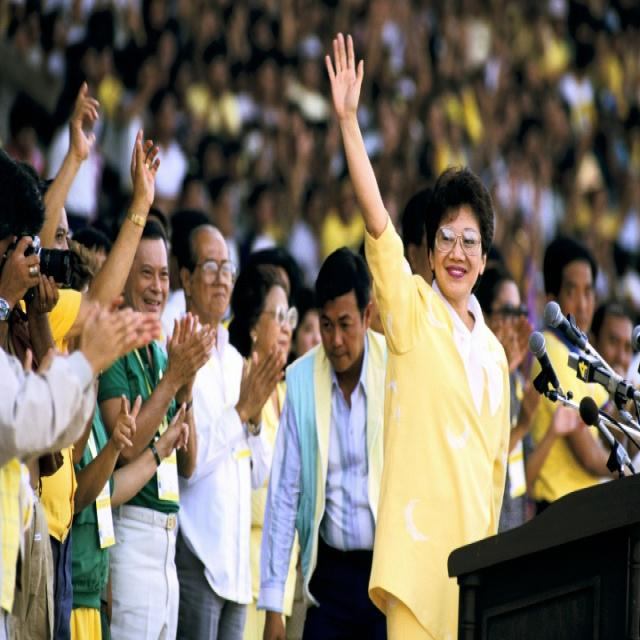body: (0, 0, 640, 289), (321, 26, 522, 638), (0, 117, 157, 639), (39, 124, 164, 640), (255, 246, 388, 640), (95, 214, 217, 640), (168, 217, 284, 640), (374, 184, 480, 640), (94, 220, 192, 640), (527, 232, 640, 517), (0, 154, 61, 640), (226, 260, 301, 640), (227, 260, 301, 640), (473, 268, 563, 533), (333, 244, 391, 639), (586, 300, 636, 383), (287, 284, 322, 363), (626, 342, 640, 469), (516, 334, 534, 402)
